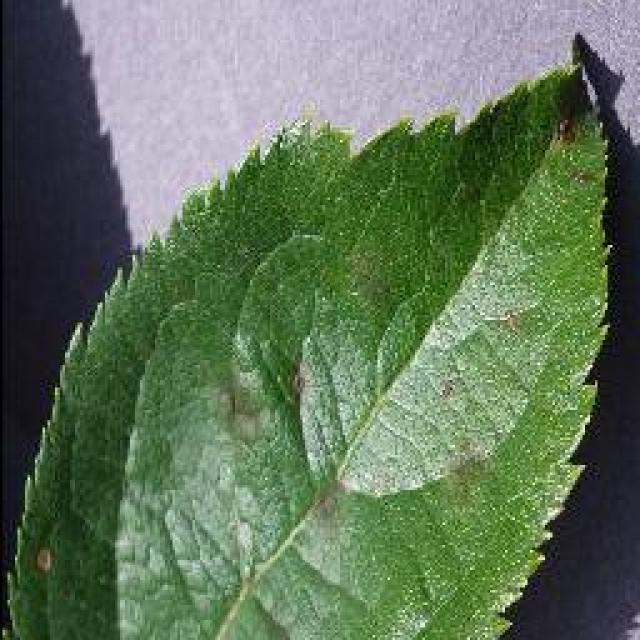apple scab disease: (2, 35, 618, 637)
